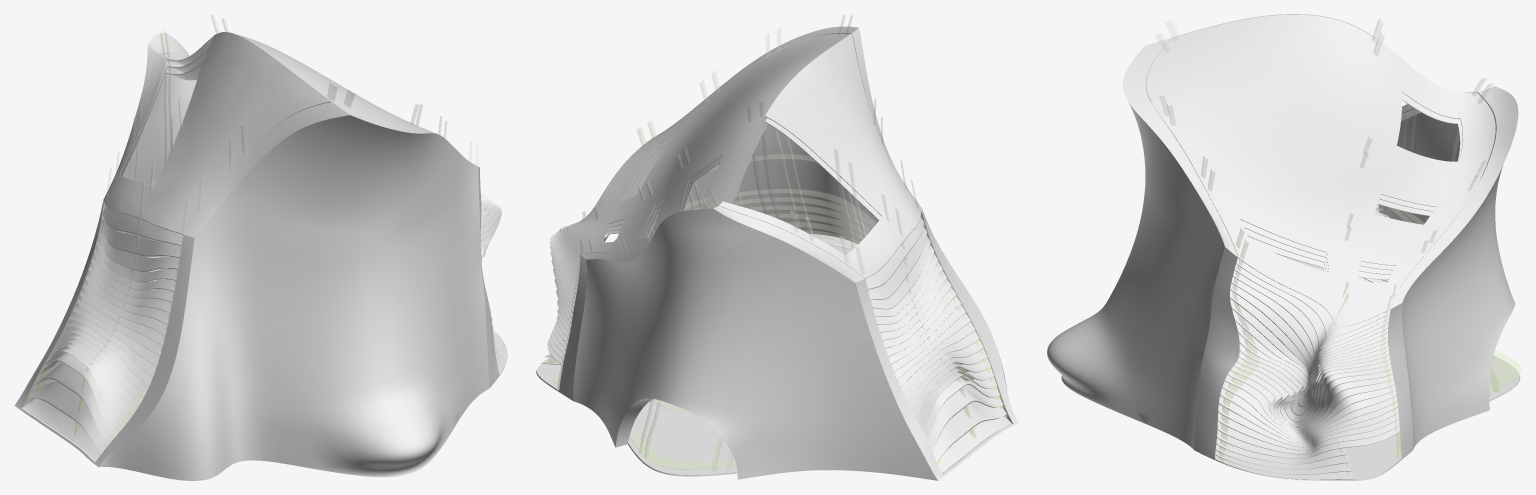
3 views of the same model, side by side, from view 1: azimuth 30°, elevation 25°; view 2: azimuth 150°, elevation 25°; view 3: azimuth 270°, elevation 25° (orthographic). The views are drawn at different scales.
Parts seen in each view (by area): view 1: Merged Objects 3, FUP-EXPOERIENCE-re 1, Merged Objects 7, Group 1, Merged Objects 2, Merged Objects 5; view 2: Merged Objects 3, FUP-EXPOERIENCE-re 1, Group 1, Merged Objects 7, Merged Objects 5, Merged Objects 2; view 3: Group 1, Merged Objects 3, Merged Objects 2, Merged Objects 7, Merged Objects 5.
Boxes of the visible parts, <box> form: Merged Objects 3: <box>14,32,499,480</box>; FUP-EXPOERIENCE-re 1: <box>23,32,331,460</box>; Merged Objects 7: <box>27,14,502,454</box>; Group 1: <box>161,35,489,210</box>; Merged Objects 2: <box>480,199,507,374</box>; Merged Objects 5: <box>20,256,507,463</box>; Merged Objects 3: <box>559,26,1018,480</box>; FUP-EXPOERIENCE-re 1: <box>719,33,1010,473</box>; Group 1: <box>558,33,850,264</box>; Merged Objects 7: <box>548,14,1008,471</box>; Merged Objects 5: <box>536,234,1013,476</box>; Merged Objects 2: <box>541,222,975,405</box>; Group 1: <box>1146,14,1495,358</box>; Merged Objects 3: <box>1047,38,1518,459</box>; Merged Objects 2: <box>1215,276,1399,479</box>; Merged Objects 7: <box>1155,18,1521,475</box>; Merged Objects 5: <box>1215,212,1520,480</box>.
Bounding box in the file's own units: 41.68 × 31.74 × 39.03.
3 materials, 1 textured.
